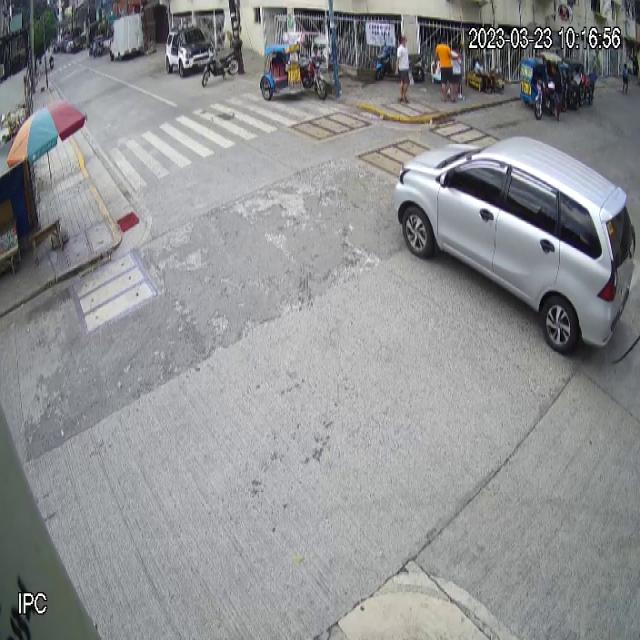Car: (395, 135, 640, 358)
Tricycle: (259, 30, 329, 101)
